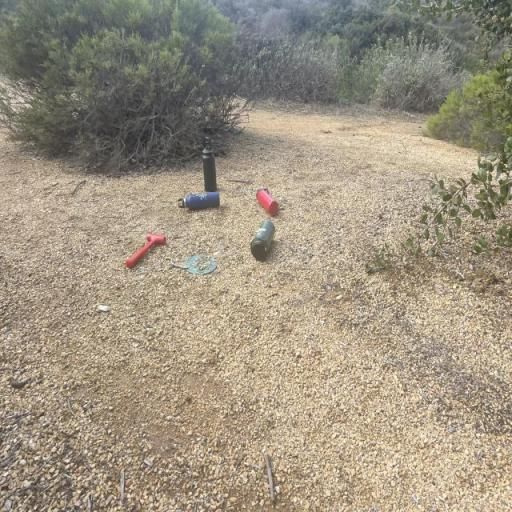bottle: (246, 215, 280, 263), (202, 136, 218, 192), (178, 192, 220, 209), (256, 188, 278, 214)
mallet: (123, 226, 169, 276)
